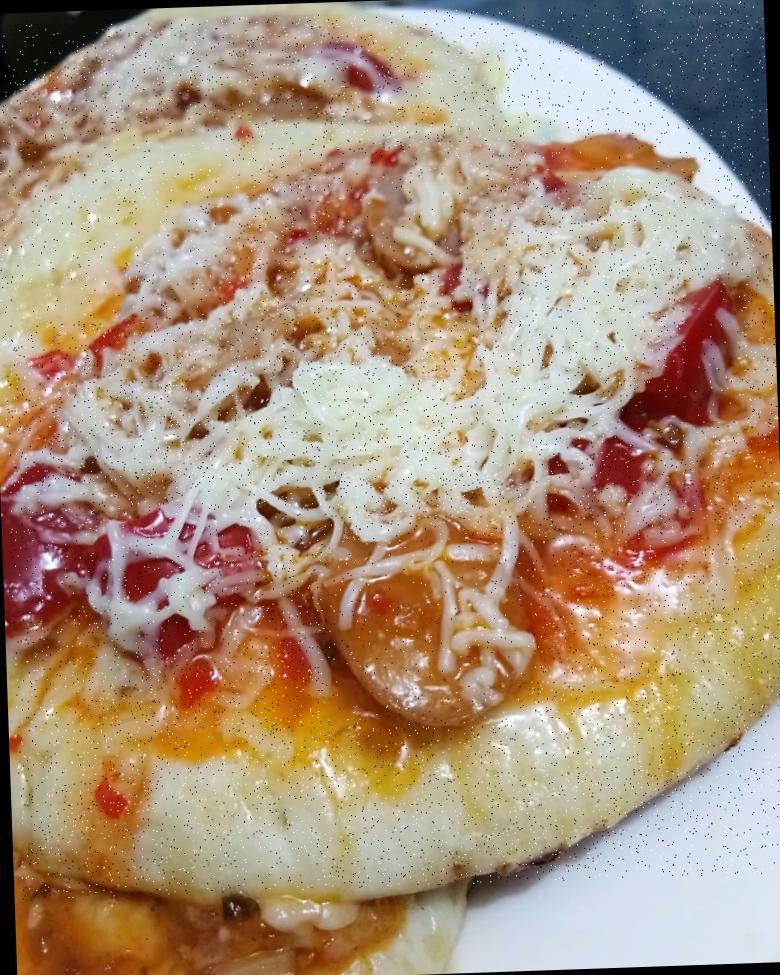Cheese: (120, 339, 482, 496), (0, 118, 250, 332), (490, 200, 688, 403)
Pepperoni: (324, 534, 532, 730), (12, 481, 257, 636), (333, 149, 490, 276), (626, 280, 746, 424), (530, 134, 682, 183), (302, 44, 404, 113)
Pizza: (0, 0, 780, 899)
